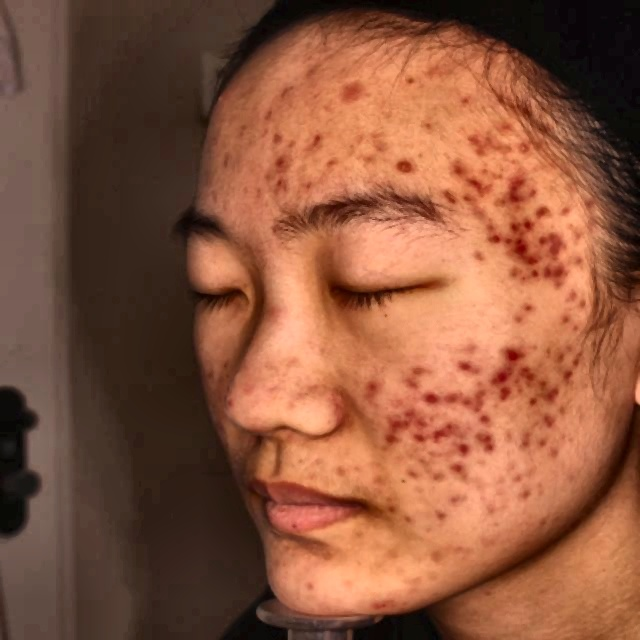nodule: (245, 116, 309, 156), (558, 303, 614, 343), (547, 258, 588, 306), (465, 420, 514, 455), (517, 194, 563, 231), (323, 73, 363, 113), (364, 584, 404, 623), (519, 352, 557, 392), (511, 290, 546, 333), (190, 149, 250, 174), (531, 404, 579, 435), (526, 217, 568, 250), (392, 154, 436, 184), (446, 353, 486, 386), (481, 378, 513, 419), (448, 428, 481, 467), (549, 338, 582, 376), (405, 456, 448, 485), (429, 187, 470, 217), (502, 210, 538, 243), (414, 377, 446, 414), (511, 125, 546, 158), (450, 376, 488, 404), (262, 168, 295, 200), (509, 232, 541, 265), (441, 147, 470, 183), (359, 379, 396, 407), (516, 412, 539, 457), (522, 364, 547, 404), (459, 124, 492, 153), (484, 122, 511, 157), (254, 153, 290, 177), (490, 167, 520, 195), (522, 258, 552, 286), (320, 156, 352, 182), (423, 418, 454, 444), (260, 304, 291, 330), (495, 334, 522, 363), (304, 541, 338, 564), (464, 245, 496, 269), (396, 415, 419, 448), (378, 424, 402, 454), (420, 62, 452, 84), (235, 374, 262, 400), (511, 187, 552, 204), (558, 365, 581, 393), (503, 468, 532, 490), (457, 174, 483, 197), (446, 489, 472, 512), (268, 533, 295, 555), (479, 232, 516, 248), (303, 578, 326, 603), (431, 504, 456, 526), (275, 82, 300, 104), (270, 220, 289, 246), (481, 364, 502, 387), (502, 264, 526, 284), (220, 393, 245, 412), (578, 195, 600, 216), (463, 336, 482, 360), (305, 134, 336, 148), (545, 444, 566, 464), (456, 91, 480, 108), (517, 485, 535, 504), (213, 93, 230, 106)
